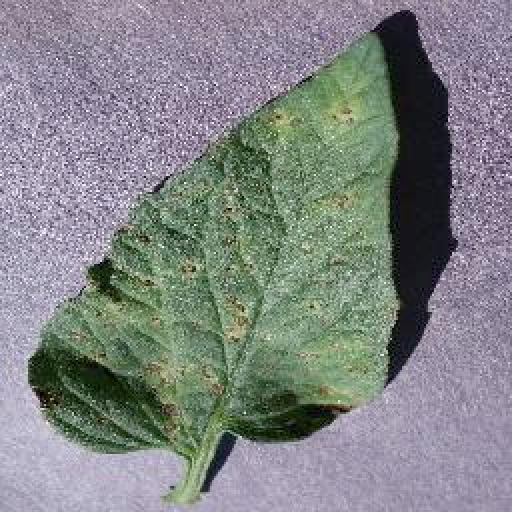disease_tomato: (24, 33, 402, 459)
